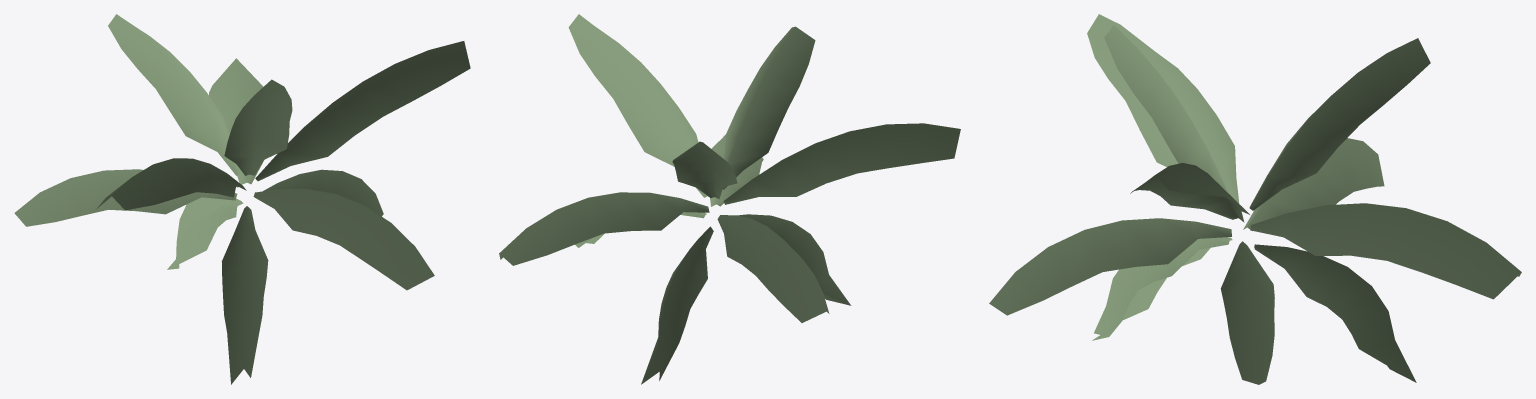
The model's file is palm_young_crown.glb.
3 views of the same model, side by side, from view 1: azimuth 30°, elevation 25°; view 2: azimuth 150°, elevation 25°; view 3: azimuth 270°, elevation 25° (orthographic). The views are drawn at different scales.
Parts seen in each view (by area): view 1: palm_young_crown; view 2: palm_young_crown; view 3: palm_young_crown.
Part boxes in pixels (bbox=[...]): palm_young_crown: bbox=[14, 14, 470, 384]; palm_young_crown: bbox=[499, 14, 960, 384]; palm_young_crown: bbox=[989, 14, 1521, 384].
Bounding box in the file's own units: 6.31 × 4.51 × 6.44.
